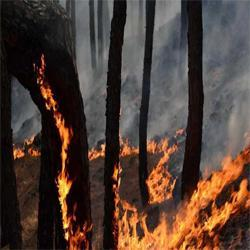fire: (116, 216, 182, 248), (59, 122, 72, 201), (147, 166, 174, 202), (194, 179, 227, 198)
